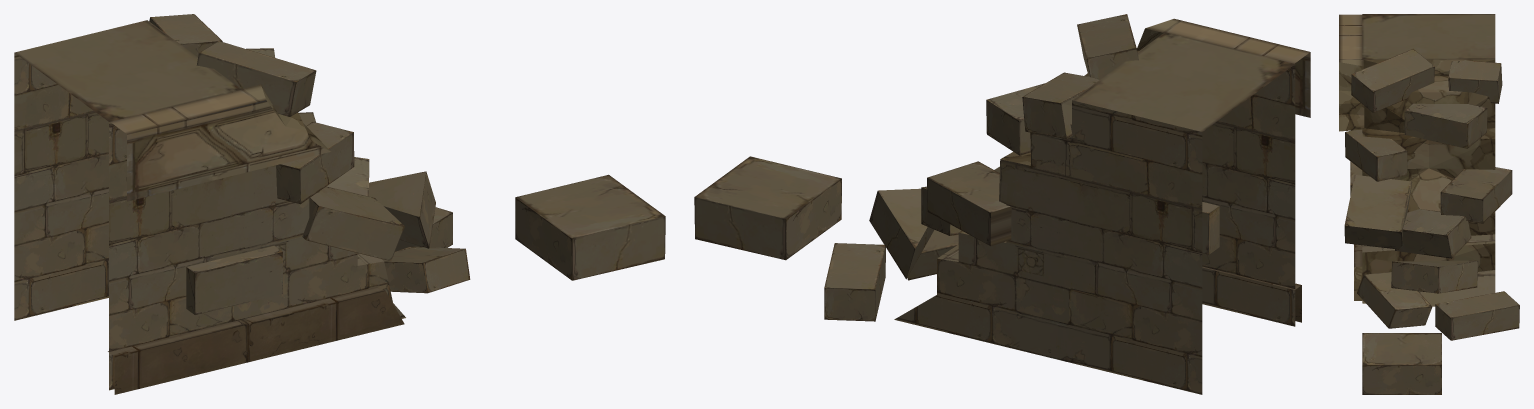
Rendered from 2_DG_PoQiangTi_01.FBX.
3 views of the same model, side by side, from view 1: azimuth 30°, elevation 25°; view 2: azimuth 150°, elevation 25°; view 3: azimuth 270°, elevation 25° (orthographic). The views are drawn at different scales.
Visible parts, largest first — view 1: 2_DG_PoQiangTi_01, 2_DG_PoFuDiao_01, 2_DG_PoQiangTi_01_01, 2_DG_PoQiangTi_02, 2_DG_QiangZhuani_002; view 2: 2_DG_PoQiangTi_01, 2_DG_PoQiangTi_02, 2_DG_PoFuDiao_01, 2_DG_QiangZhuani_002; view 3: 2_DG_PoQiangTi_01, 2_DG_PoQiangTi_02, 2_DG_PoFuDiao_01, 2_DG_PoQiangTi_01_01, 2_DG_QiangZhuani_002.
Part boxes in pixels (x1=…): 2_DG_PoQiangTi_01: x1=14, y1=14, x2=470, y2=390; 2_DG_PoFuDiao_01: x1=110, y1=84, x2=330, y2=201; 2_DG_PoQiangTi_01_01: x1=108, y1=286, x2=404, y2=394; 2_DG_PoQiangTi_02: x1=515, y1=174, x2=665, y2=280; 2_DG_QiangZhuani_002: x1=186, y1=245, x2=282, y2=314; 2_DG_PoQiangTi_01: x1=824, y1=14, x2=1295, y2=394; 2_DG_PoQiangTi_02: x1=694, y1=156, x2=841, y2=260; 2_DG_PoFuDiao_01: x1=1136, y1=18, x2=1310, y2=117; 2_DG_QiangZhuani_002: x1=1202, y1=202, x2=1219, y2=254; 2_DG_PoQiangTi_01: x1=1344, y1=14, x2=1519, y2=340; 2_DG_PoQiangTi_02: x1=1362, y1=333, x2=1441, y2=394; 2_DG_PoFuDiao_01: x1=1339, y1=14, x2=1364, y2=131; 2_DG_PoQiangTi_01_01: x1=1354, y1=244, x2=1362, y2=300; 2_DG_QiangZhuani_002: x1=1350, y1=161, x2=1362, y2=195.
Size of the model in its own units: 1523 by 746 by 611.
